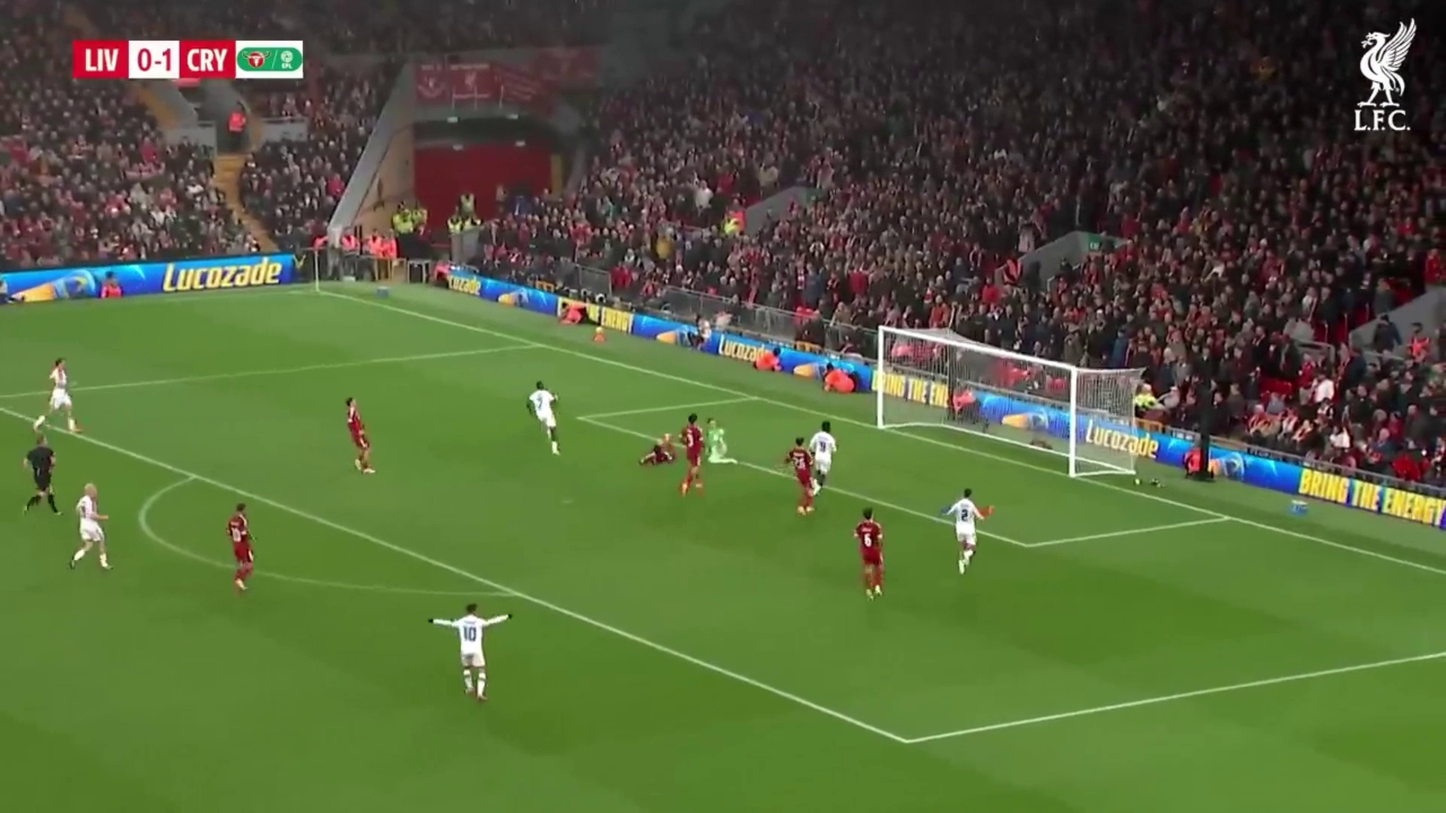player: (429, 604, 498, 703), (449, 606, 494, 702), (68, 481, 113, 574), (945, 486, 990, 573), (35, 357, 77, 435), (854, 511, 887, 598), (526, 381, 563, 458), (23, 435, 58, 515), (225, 505, 254, 597), (785, 439, 818, 517), (345, 396, 376, 475), (681, 415, 707, 493), (809, 422, 836, 487), (811, 421, 838, 473), (706, 417, 733, 466), (639, 435, 679, 467)
